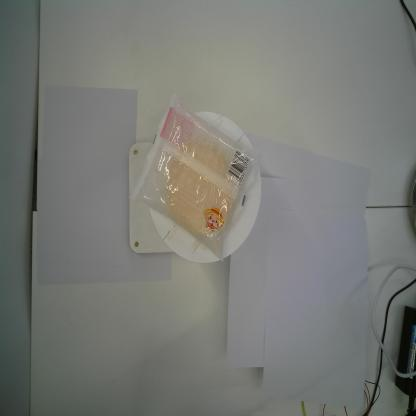Dessert: (125, 88, 261, 267)
